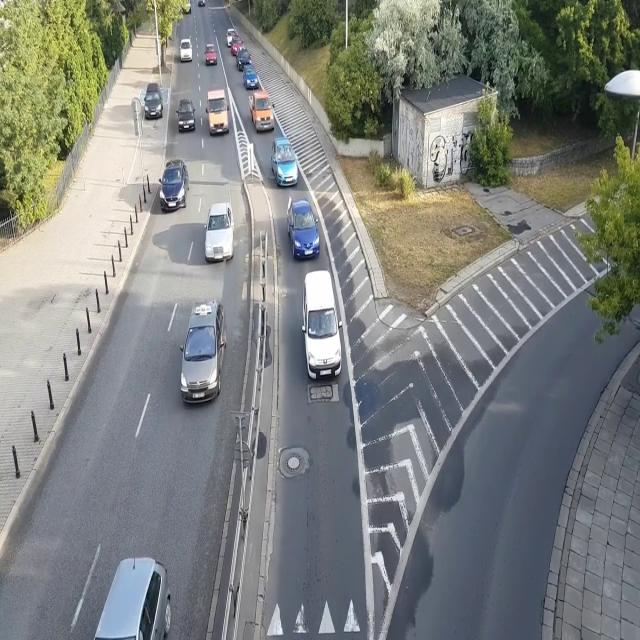car: (88, 555, 173, 640), (178, 297, 228, 404), (286, 199, 321, 260), (204, 202, 234, 260), (158, 158, 189, 213), (270, 135, 300, 187), (176, 97, 197, 135), (143, 82, 164, 118), (242, 63, 259, 91), (236, 49, 252, 71), (204, 42, 218, 66), (179, 38, 192, 61), (231, 36, 244, 55), (226, 26, 235, 47), (197, 0, 206, 7)
truck: (248, 88, 274, 133)
van: (300, 271, 344, 381), (205, 88, 230, 136)
